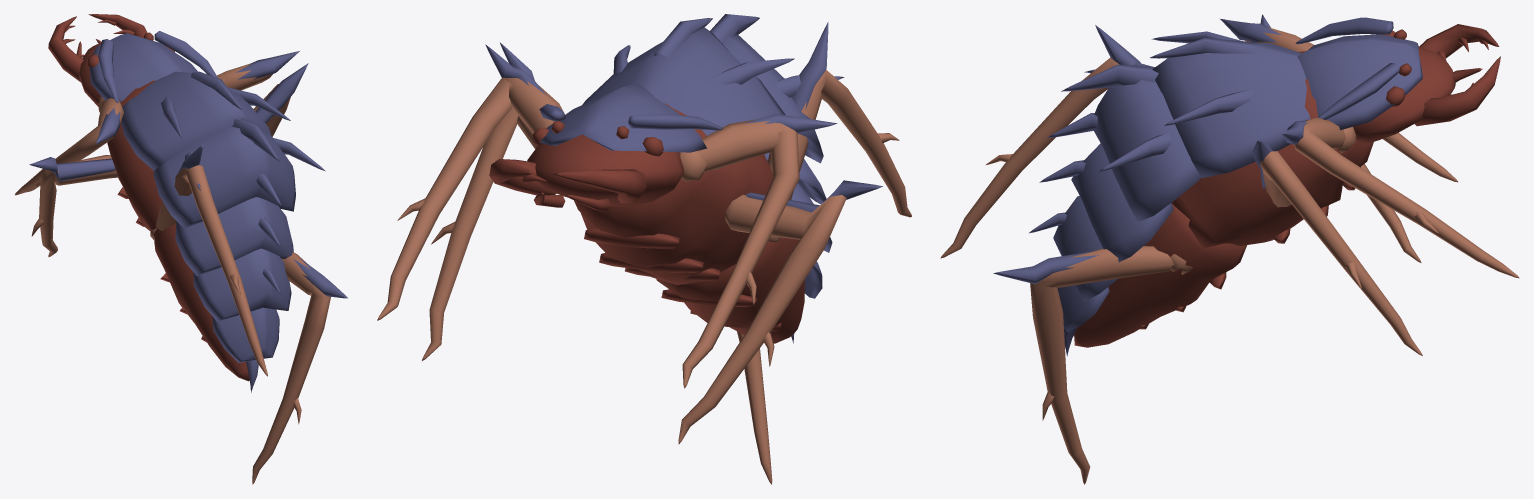
File: big-biter-attack.glb
3 views of the same model, side by side, from view 1: azimuth 30°, elevation 25°; view 2: azimuth 150°, elevation 25°; view 3: azimuth 270°, elevation 25° (orthographic). The views are drawn at different scales.
Visible parts, largest first — view 1: body; view 2: body; view 3: body.
Boxes of the visible parts, x1,y1,x2,y2 form: body: (15,14,347,484); body: (377,14,911,484); body: (940,14,1519,484).
Size of the model in its own units: 2.54 by 3.1 by 3.58.
